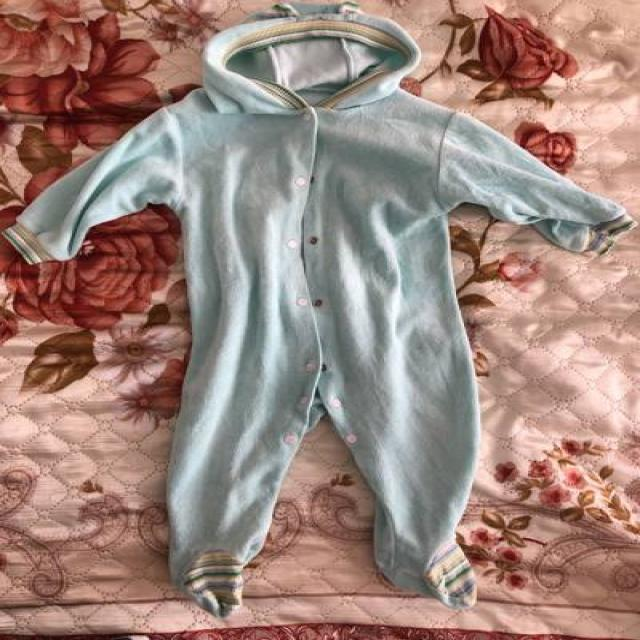Clothes -Biodegradable-: (8, 8, 640, 612)
